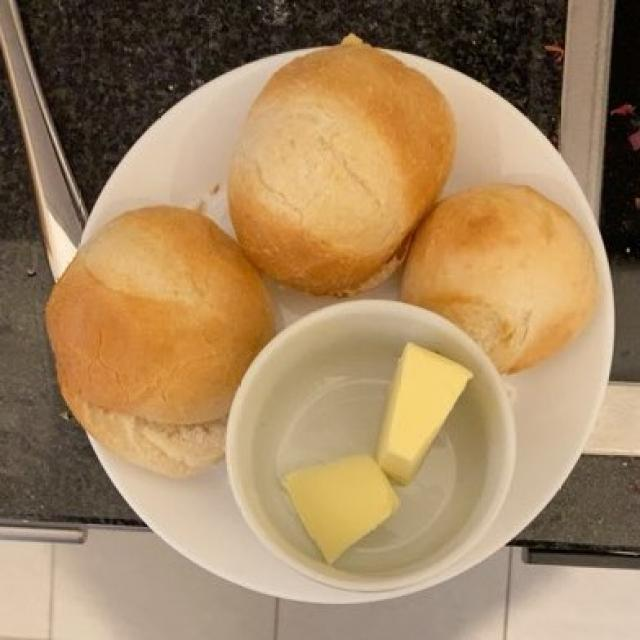bread: (86, 45, 558, 469)
butter: (278, 345, 473, 558)
